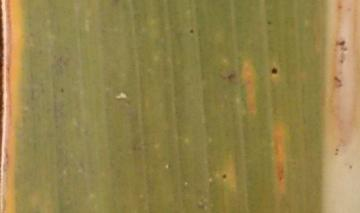tarspot: (268, 63, 280, 77), (264, 14, 274, 29), (219, 171, 230, 183), (185, 25, 197, 34), (58, 84, 65, 95)
